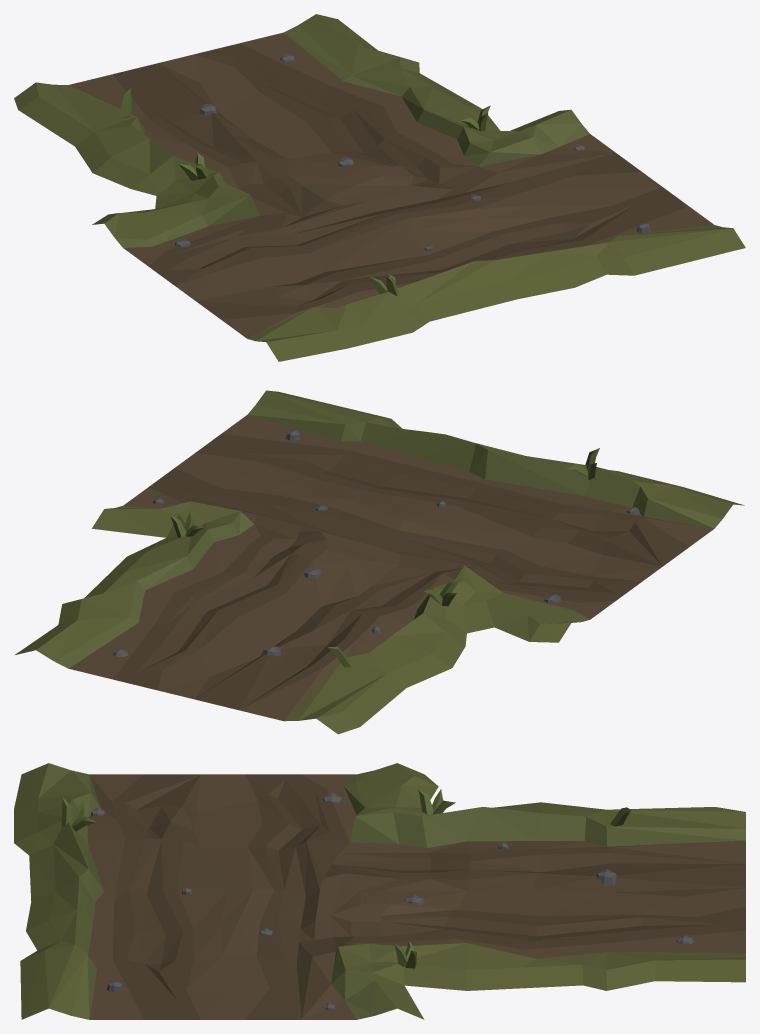
The model's file is road_t.glb.
3 renders of one model, top to bottom at view 1: azimuth 30°, elevation 25°; view 2: azimuth 150°, elevation 25°; view 3: azimuth 270°, elevation 25°, orthographic. The views are drawn at different scales.
Parts seen in each view (by area): view 1: SM_Env_Road_T_01; view 2: SM_Env_Road_T_01; view 3: SM_Env_Road_T_01.
Boxes of the visible parts, x1=… form: SM_Env_Road_T_01: x1=14, y1=14, x2=745, y2=361; SM_Env_Road_T_01: x1=14, y1=390, x2=744, y2=734; SM_Env_Road_T_01: x1=14, y1=763, x2=745, y2=1019.
Size of the model in its own units: 500 by 48.68 by 630.
1 material, 1 textured.
